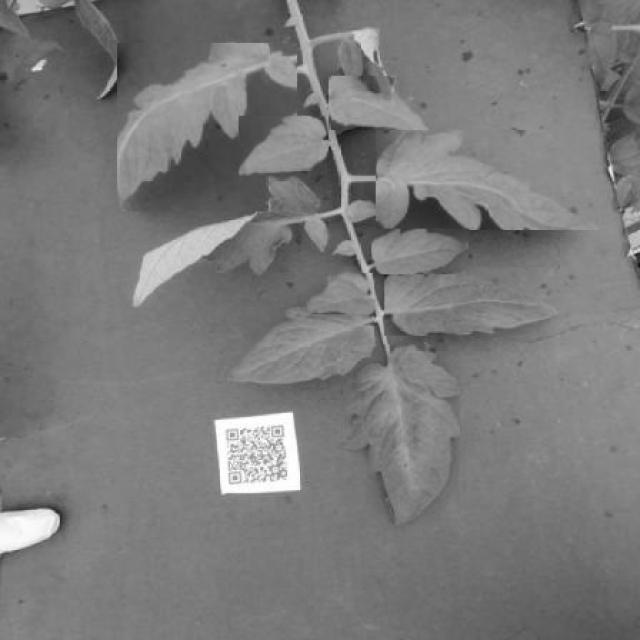Healthy: (117, 43, 297, 211), (376, 130, 600, 230), (338, 344, 461, 526), (385, 268, 556, 336), (227, 308, 374, 385), (328, 76, 428, 131), (238, 116, 328, 176), (372, 228, 469, 275), (305, 273, 375, 314)
